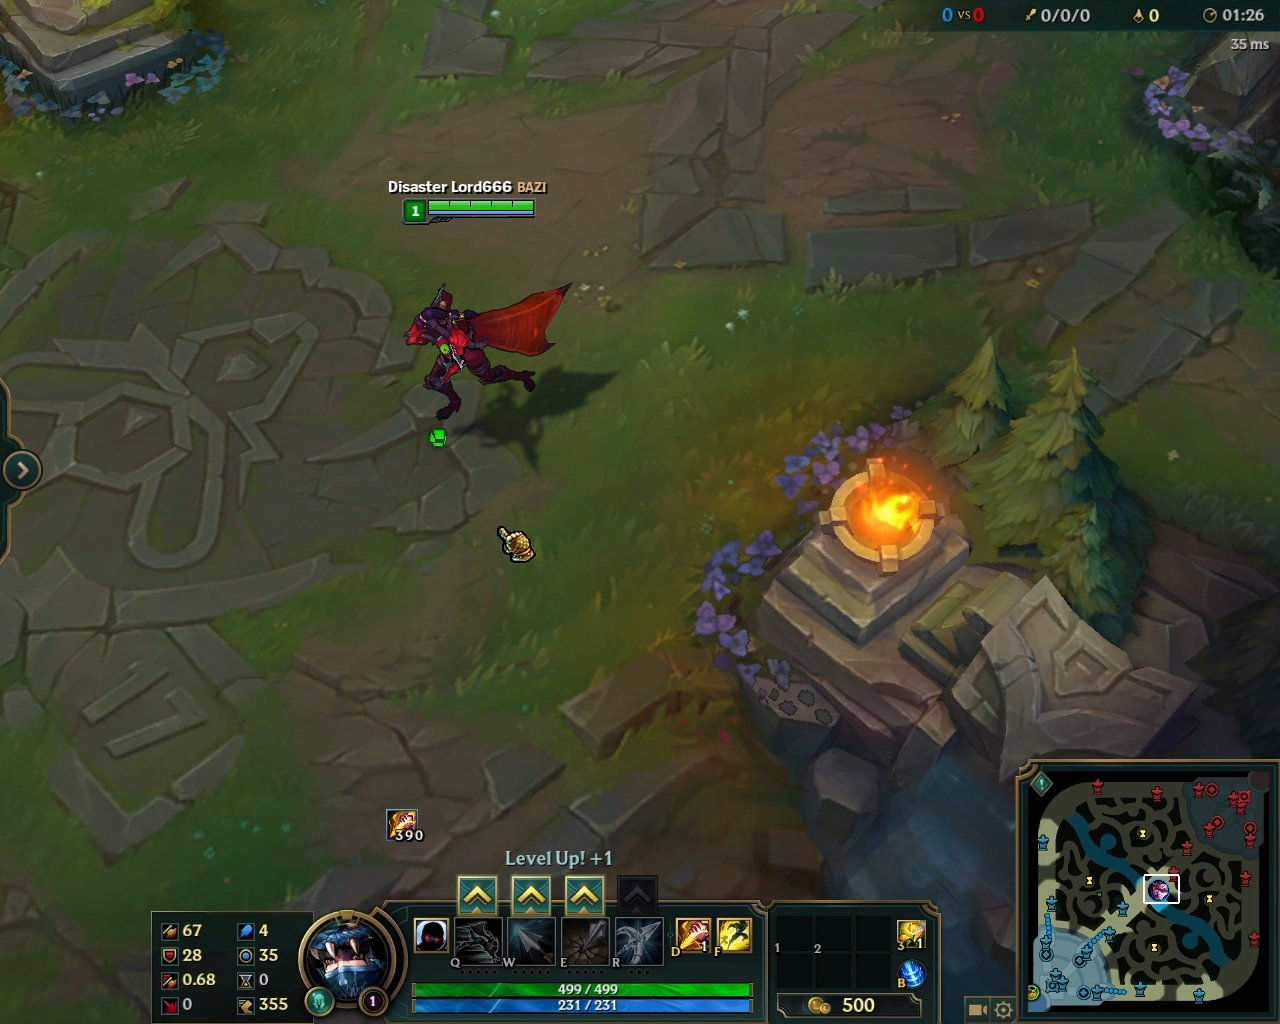Vayne: (399, 275, 587, 426)
